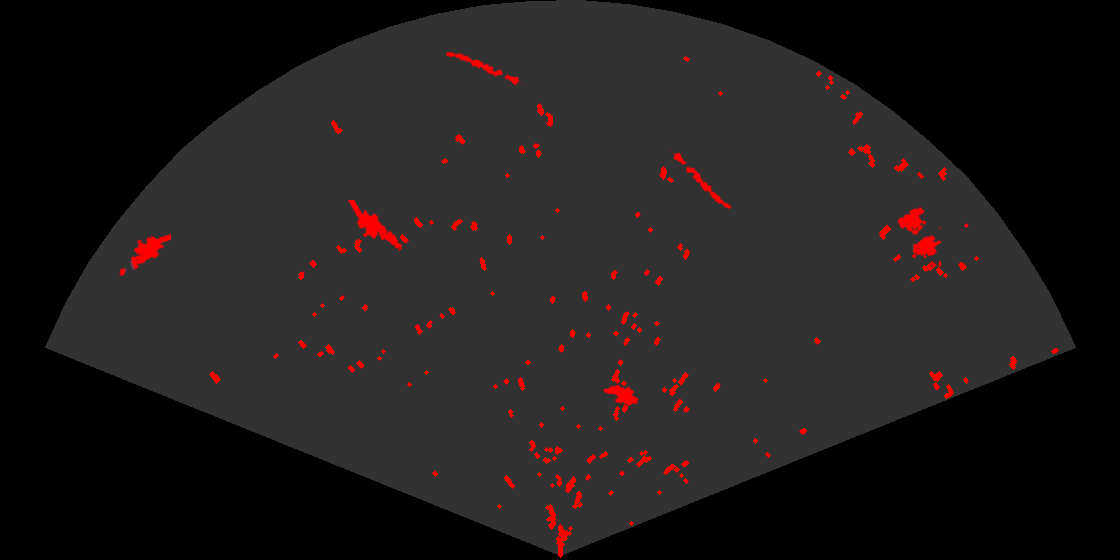AUV: (601, 383, 640, 407)
cage: (896, 205, 941, 267)
chain: (666, 147, 733, 211), (444, 50, 526, 87)
frogman: (347, 200, 404, 251), (117, 232, 171, 277)
